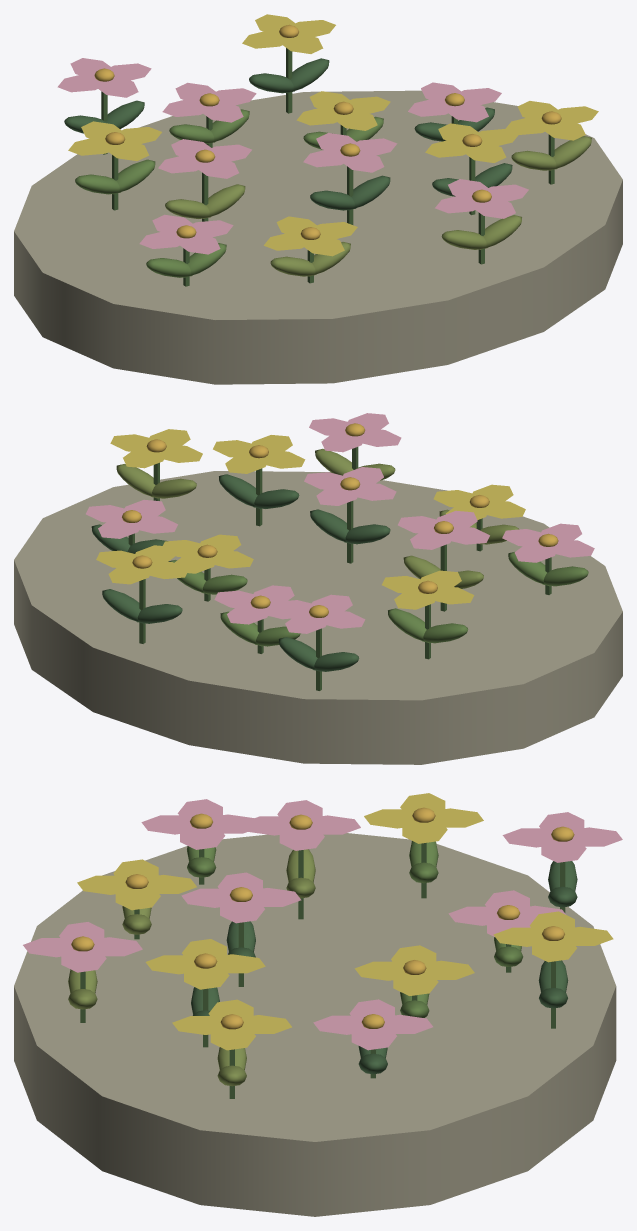
The picture shows the model from 3 angles, top to bottom: view 1: azimuth 30°, elevation 25°; view 2: azimuth 150°, elevation 25°; view 3: azimuth 270°, elevation 25°; orthographic projection. The views are drawn at different scales.
Visible parts, largest first — view 1: climb-flowers-9-0, 화단 10; view 2: climb-flowers-9-0, 화단 10; view 3: climb-flowers-9-0, 화단 10.
Boxes of the visible parts, bbox=[...] form: climb-flowers-9-0: bbox=[14, 90, 622, 384]; 화단 10: bbox=[57, 14, 598, 286]; climb-flowers-9-0: bbox=[14, 471, 622, 764]; 화단 10: bbox=[86, 413, 594, 690]; climb-flowers-9-0: bbox=[14, 833, 616, 1216]; 화단 10: bbox=[23, 793, 622, 1098].
Size of the model in its own units: 2.51 by 0.6621 by 2.06.
